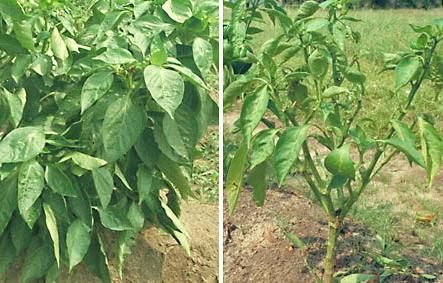Tomato leaf bacterial spot: (99, 86, 152, 160), (0, 158, 35, 251), (142, 61, 186, 122), (268, 123, 308, 190), (224, 133, 256, 215), (235, 76, 269, 147), (417, 112, 443, 194), (0, 124, 47, 168), (76, 69, 115, 121), (64, 213, 92, 273), (88, 156, 117, 213), (17, 159, 42, 218), (323, 144, 354, 191), (91, 201, 131, 236), (390, 52, 423, 92), (0, 85, 26, 125), (301, 22, 332, 36)
